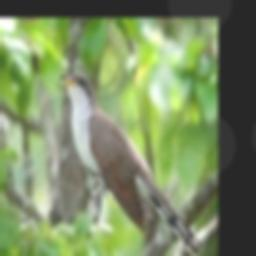Cuckoo: (59, 71, 202, 256)
